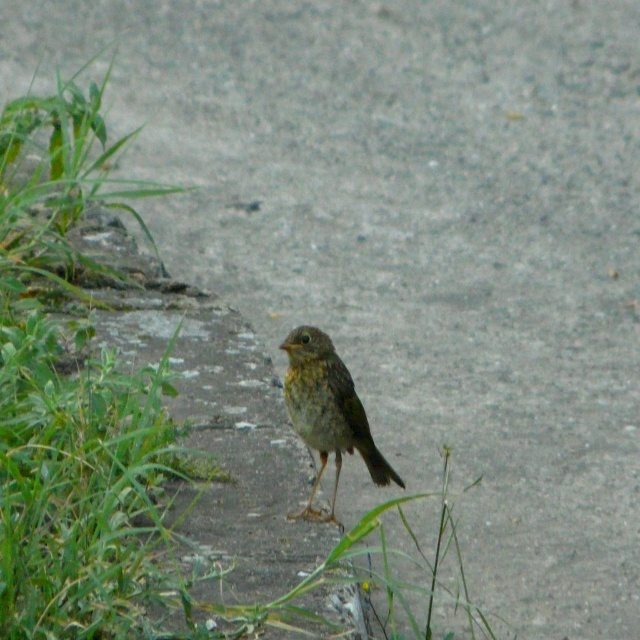Sparrow: (282, 324, 404, 525)
